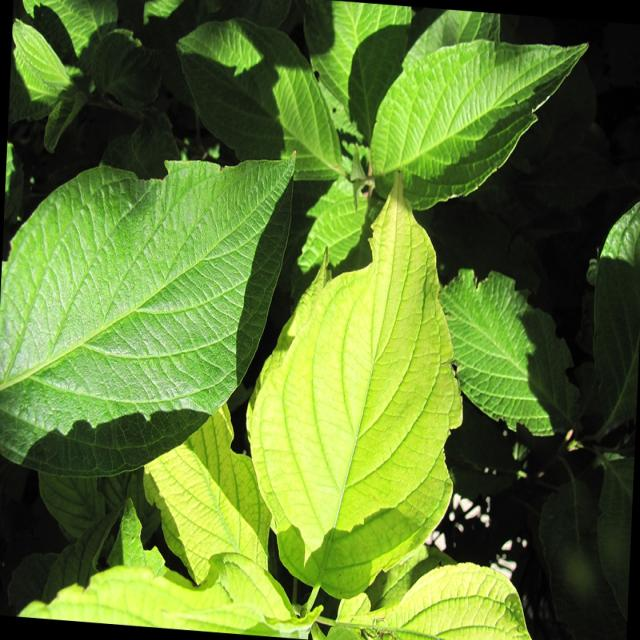Chlorosis: (233, 183, 563, 640)
